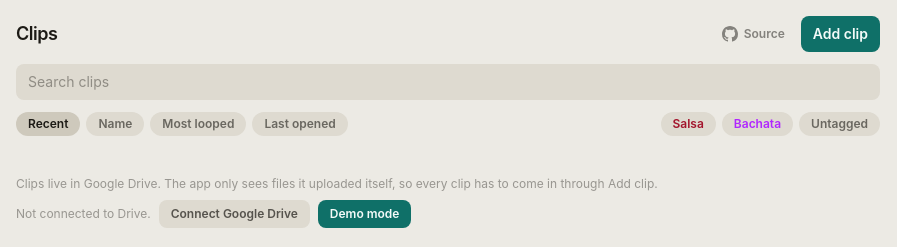
Test: the Drive session on the Clips screen › names the missing Client ID rather than implying Google is down
Step 1. Click the button "Connect Google Drive" → (234, 214), box [159,200,310,228]
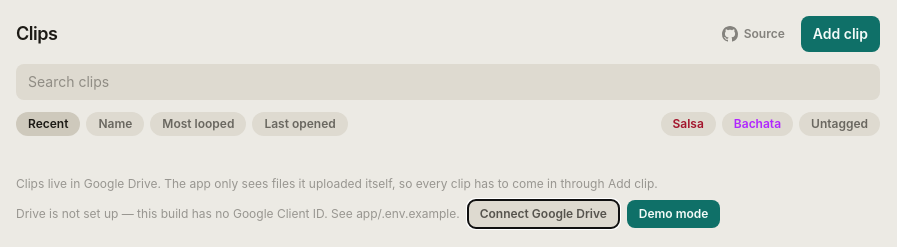
Expected: the message does not show "not available right now", [16,206,460,222]
Result: the message shows "Client ID" at [16,206,460,221]
